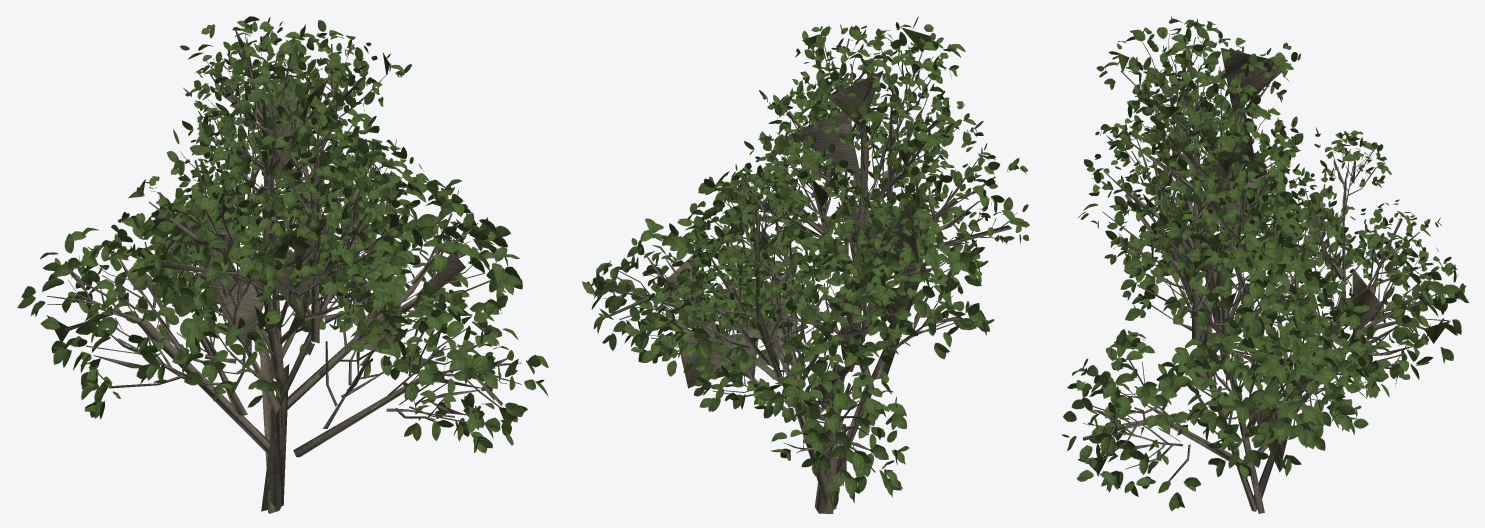
File: banyan_b.glb
3 renders of one model, left to right at view 1: azimuth 30°, elevation 25°; view 2: azimuth 150°, elevation 25°; view 3: azimuth 270°, elevation 25°, orthographic. The views are drawn at different scales.
Parts seen in each view (by area): view 1: FBX_AS06_FicusBenghalensis_9_w; view 2: FBX_AS06_FicusBenghalensis_9_w; view 3: FBX_AS06_FicusBenghalensis_9_w.
Boxes of the visible parts, x1,y1,x2,y2 form: FBX_AS06_FicusBenghalensis_9_w: (17, 16, 548, 513); FBX_AS06_FicusBenghalensis_9_w: (582, 17, 1029, 513); FBX_AS06_FicusBenghalensis_9_w: (1061, 16, 1468, 513).
Bounding box in the file's own units: 11.37 × 12.74 × 10.07.
Materials: 4 (4 with a texture image).
